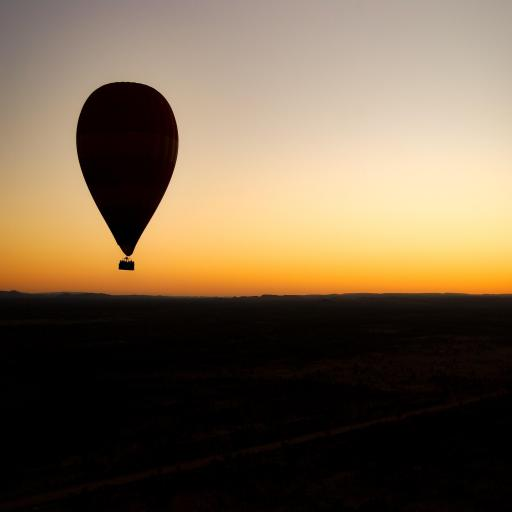hot air ballon: (74, 79, 180, 272)
